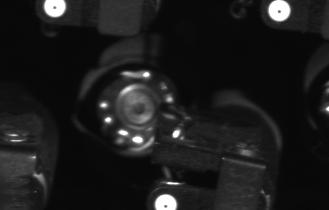fiber: (265, 1, 295, 26), (41, 1, 71, 23), (151, 191, 182, 210)
